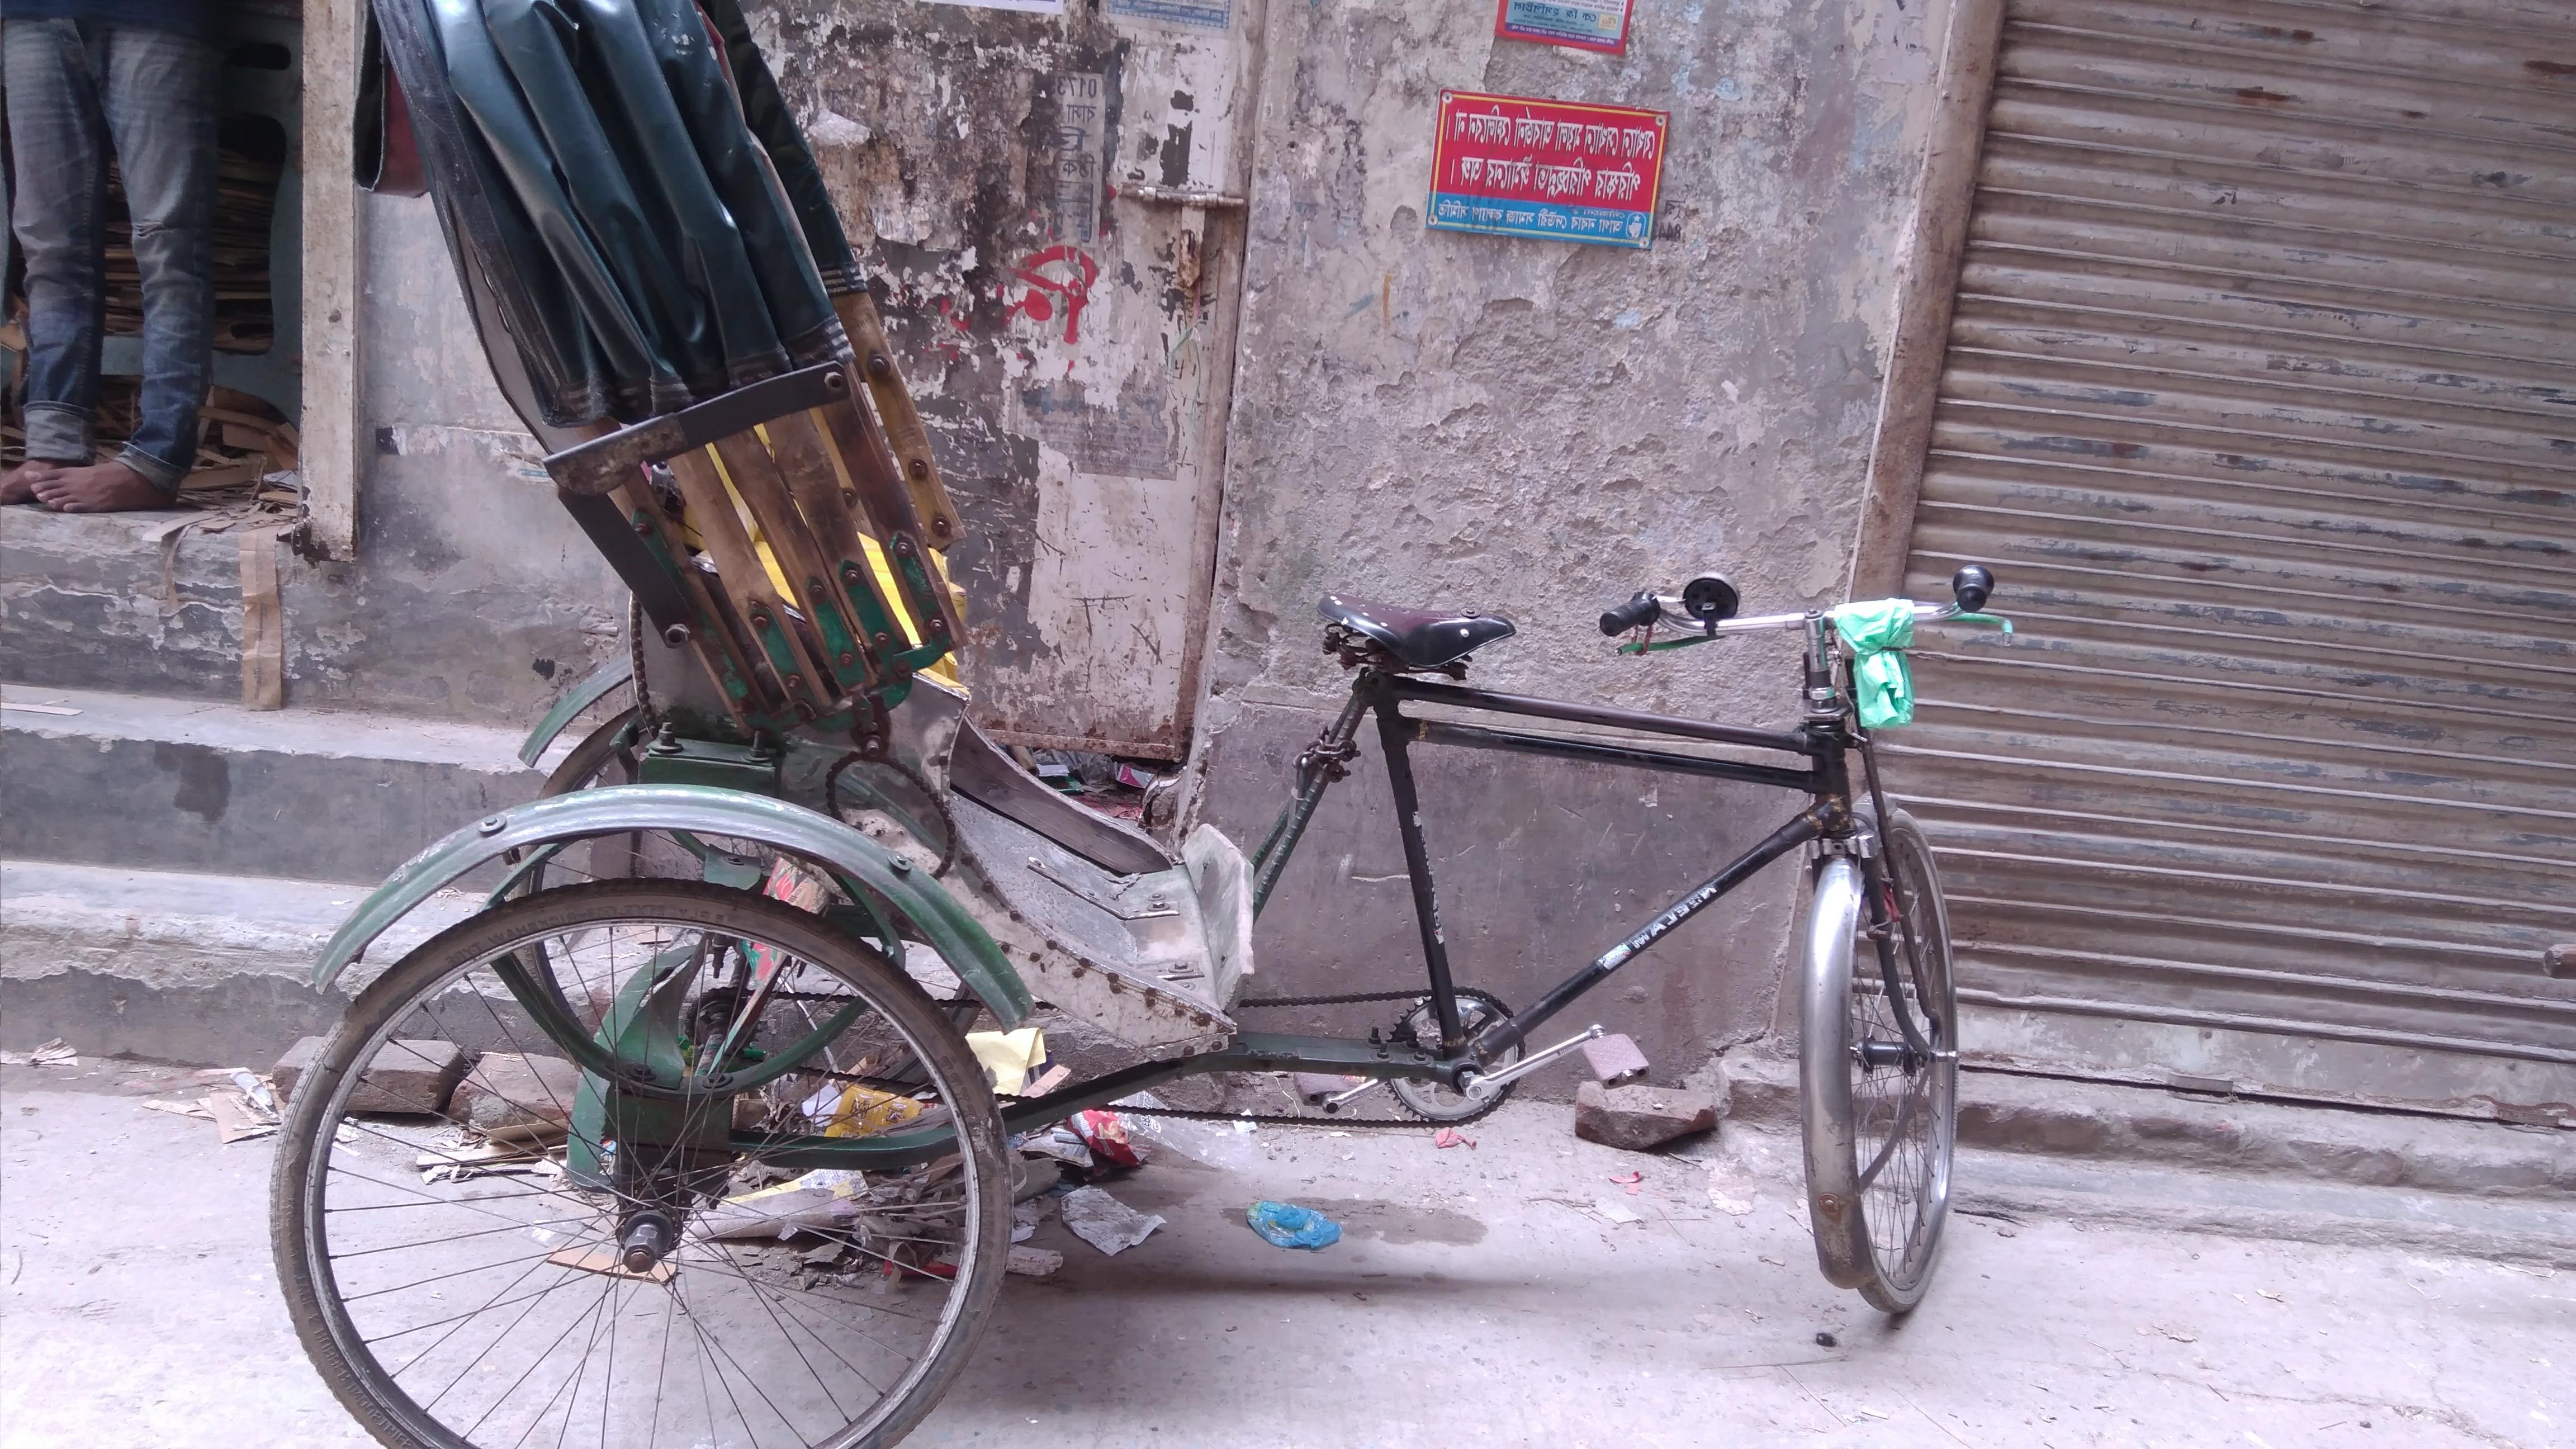Rickshaw: (292, 7, 2054, 1433)
